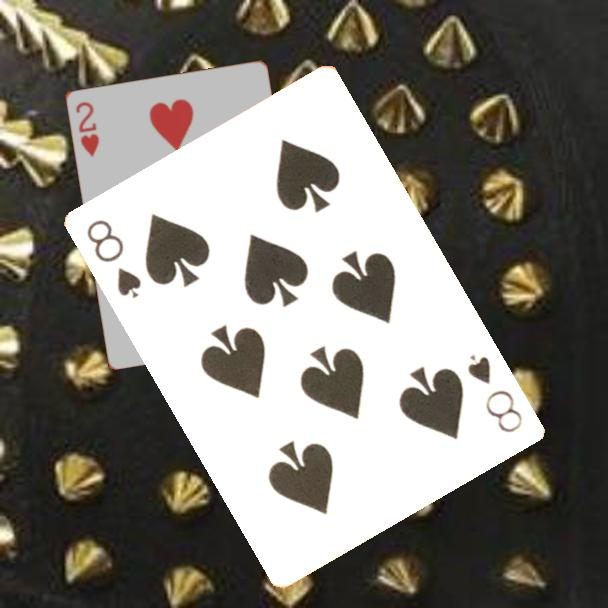h02: (72, 98, 102, 160)
s08: (83, 216, 145, 302), (464, 351, 526, 436)
